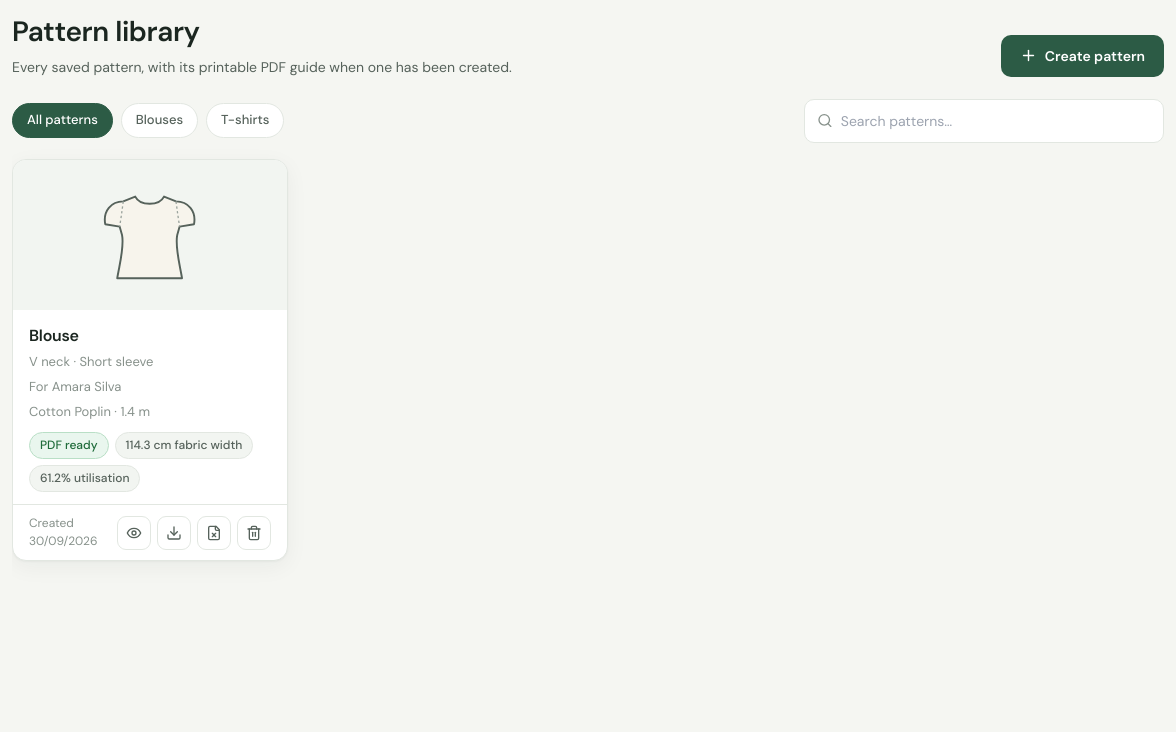
Test: Pattern library › "Delete PDF only" removes the PDF records and keeps the pattern
This screenshot has width=1176, height=732.
Step 1. Click the button named "Delete PDF only" → click(214, 533), box x1=197 y1=516 x2=231 y2=550
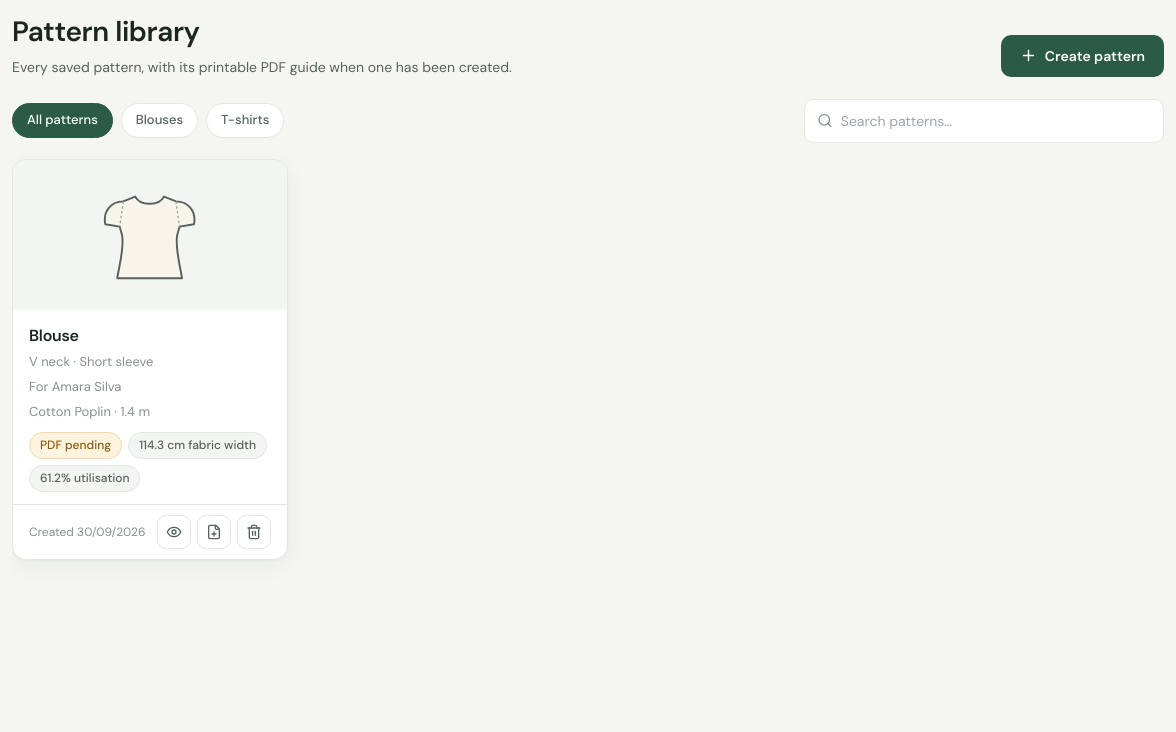
expect the text with test id "pdf-status-p1" reads "PDF pending": met, box x1=40 y1=437 x2=111 y2=453
